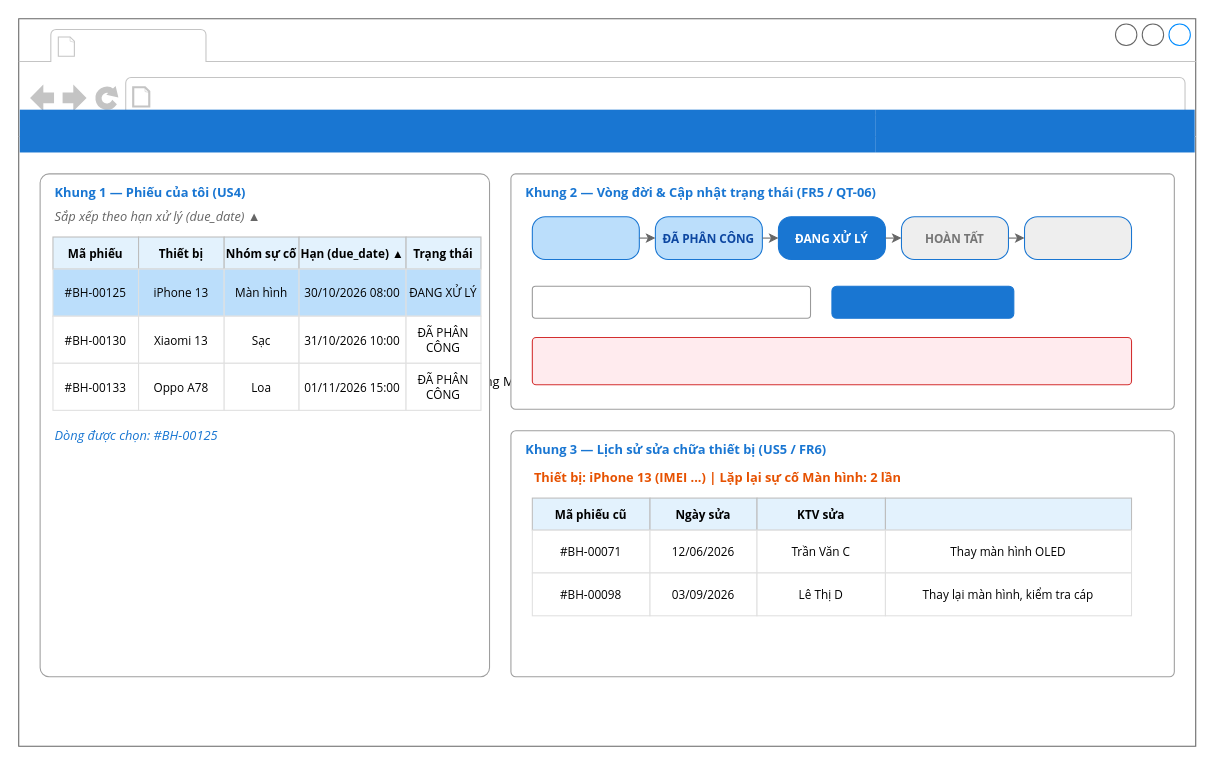
The diagram is 1214 pixels wide and 765 high, and some of its shapes have lost their labels. Here are the shapes that lost their labels. From the top down, the centre of each, then its label:
the point at 447,130: Kỹ thuật viên: Nguyễn Văn B | Trung tâm Bảo hành Quận 10
the point at 1034,130: [Đăng xuất]
the point at 585,237: MỚI
the point at 1077,237: ĐÃ ĐÓNG
the point at 671,301: Trạng thái tiếp theo: HOÀN TẤT ▾
the point at 922,301: Cập nhật trạng thái
the point at 831,361: ❌ Không thể chuyển trạng thái từ HOÀN TẤT về ĐANG XỬ LÝ (Quy tắc QT-06).
the point at 1008,513: Nội dung xử lý
